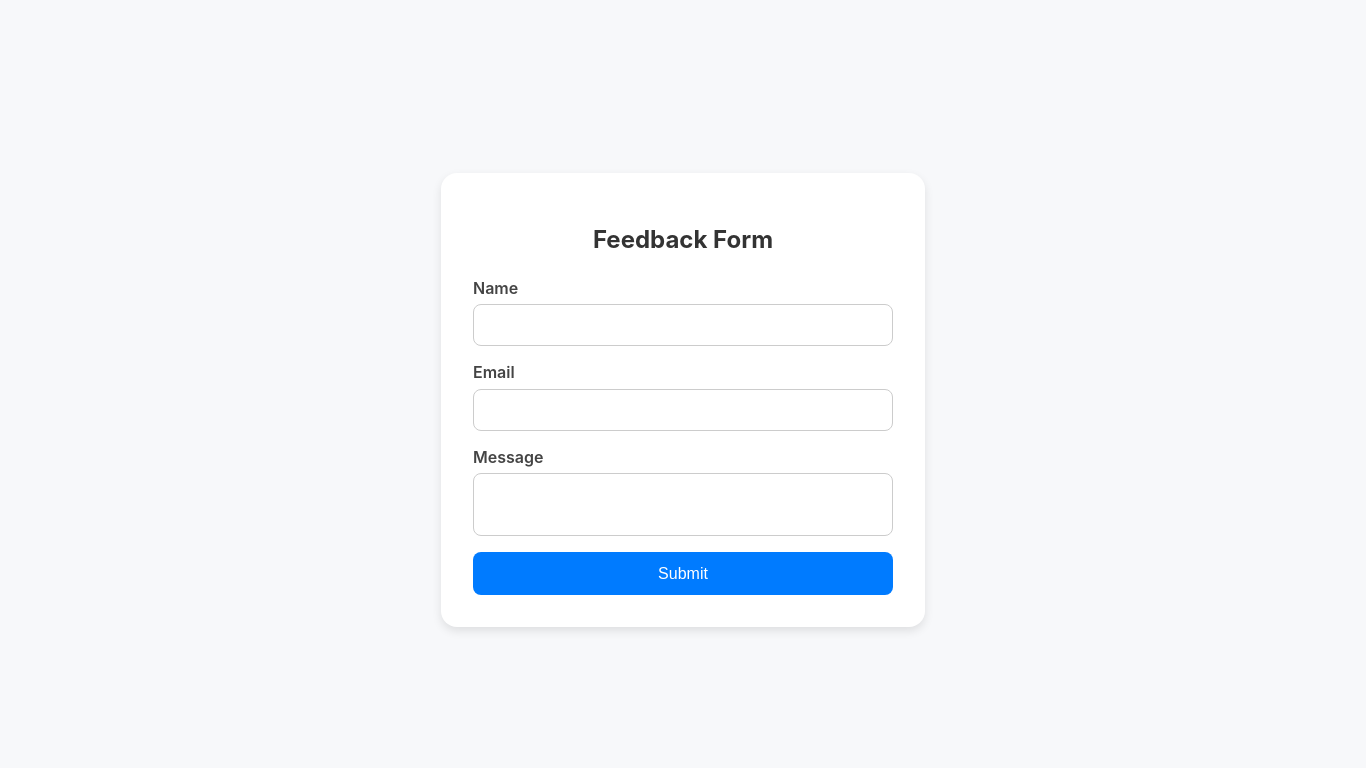
Test case: FeedbackForm › shows validation errors when submitting empty form
Click the button "Submit" at coordinates (683, 574), box [473, 552, 893, 595]
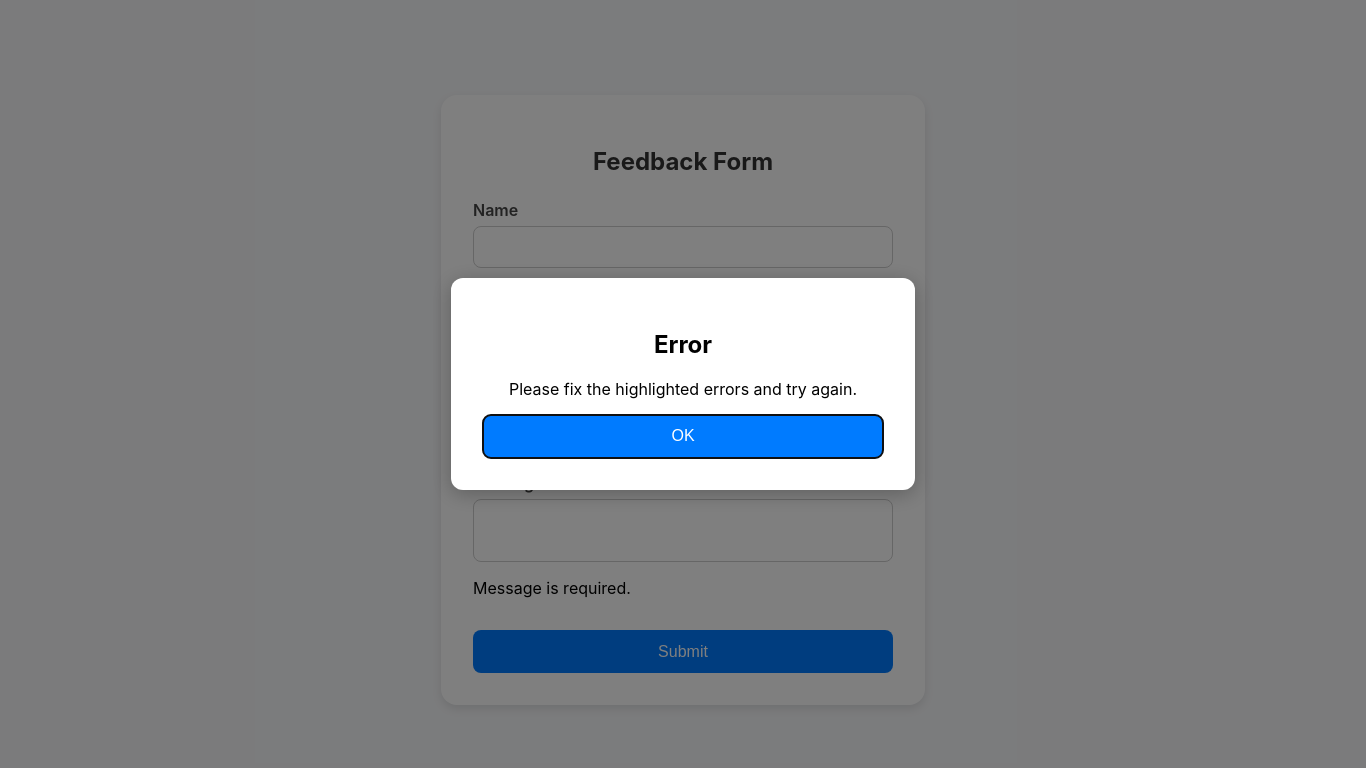
Expected: the text "Email is required." is shown, [473, 421, 602, 441]
Expected: the text "Message is required." is shown, [473, 578, 631, 598]
Expected: the text "Please fix the highlighted errors and try again." is shown, [483, 379, 883, 399]
